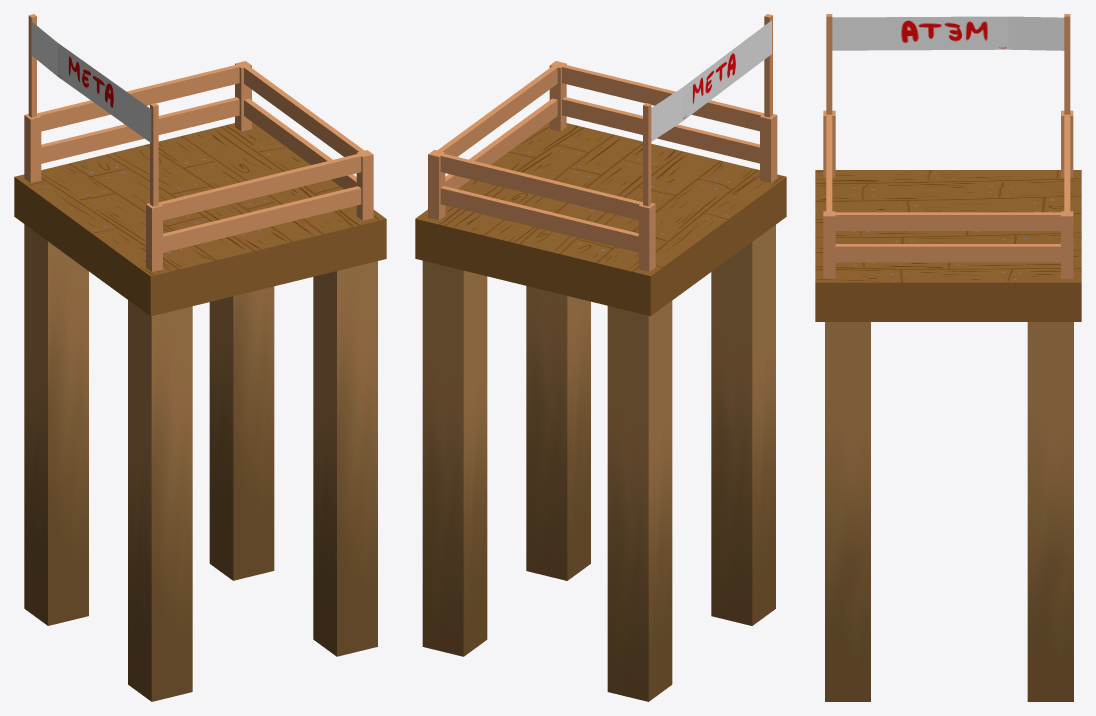
The model's file is torre final.fbx.
3 renders of one model, left to right at view 1: azimuth 30°, elevation 25°; view 2: azimuth 150°, elevation 25°; view 3: azimuth 270°, elevation 25°, orthographic. The views are drawn at different scales.
Parts seen in each view (by area): view 1: base, pata 2, pata 4, vaya.001, pata 1, pata 3, cartel; view 2: base, pata 1, pata 3, vaya.001, pata 2, pata 4, cartel; view 3: base, pata 3, pata 4, vaya.001, cartel.
Part boxes in pixels (<box>): base: <box>14,122,386,316</box>; pata 2: <box>128,300,192,701</box>; pata 4: <box>313,261,377,656</box>; vaya.001: <box>24,14,373,271</box>; pata 1: <box>24,224,88,625</box>; pata 3: <box>209,286,274,580</box>; cartel: <box>31,21,151,142</box>; base: <box>415,122,786,316</box>; pata 1: <box>607,301,672,701</box>; pata 3: <box>422,260,487,656</box>; vaya.001: <box>428,14,777,271</box>; pata 2: <box>711,225,775,625</box>; pata 4: <box>526,286,590,580</box>; cartel: <box>651,20,771,141</box>; base: <box>815,170,1081,321</box>; pata 3: <box>1027,322,1073,701</box>; pata 4: <box>825,322,870,701</box>; vaya.001: <box>823,14,1073,278</box>; cartel: <box>832,16,1064,50</box>.
Bounding box in the file's own units: 788 × 1896 × 788.
